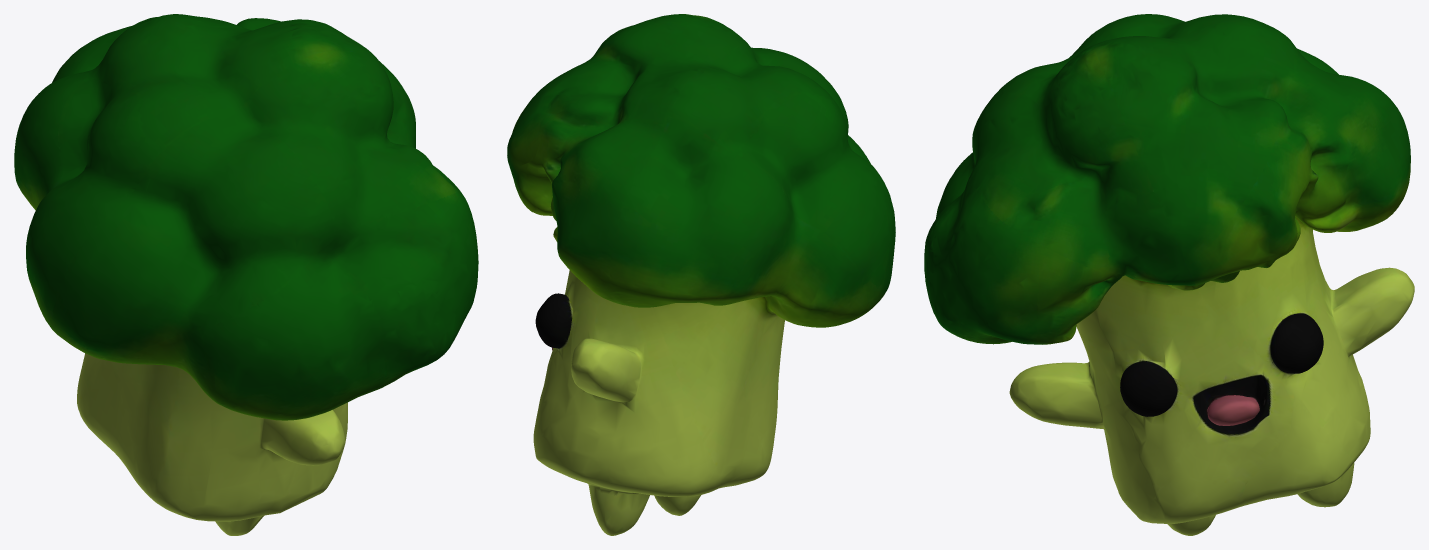
Rendered from broccoli.glb.
3 renders of one model, left to right at view 1: azimuth 30°, elevation 25°; view 2: azimuth 150°, elevation 25°; view 3: azimuth 270°, elevation 25°, orthographic. The views are drawn at different scales.
Parts seen in each view (by area): view 1: tripo_node_79130839-c98f-4408-92ea-3d24bfec57ec; view 2: tripo_node_79130839-c98f-4408-92ea-3d24bfec57ec; view 3: tripo_node_79130839-c98f-4408-92ea-3d24bfec57ec.
Part boxes in pixels (x1,y1,x2,y2): tripo_node_79130839-c98f-4408-92ea-3d24bfec57ec: (14,14,478,535); tripo_node_79130839-c98f-4408-92ea-3d24bfec57ec: (507,14,895,535); tripo_node_79130839-c98f-4408-92ea-3d24bfec57ec: (924,14,1414,535).
Bounding box in the file's own units: 0.7586 × 0.9997 × 0.8827.
Materials: 1 (1 with a texture image).
